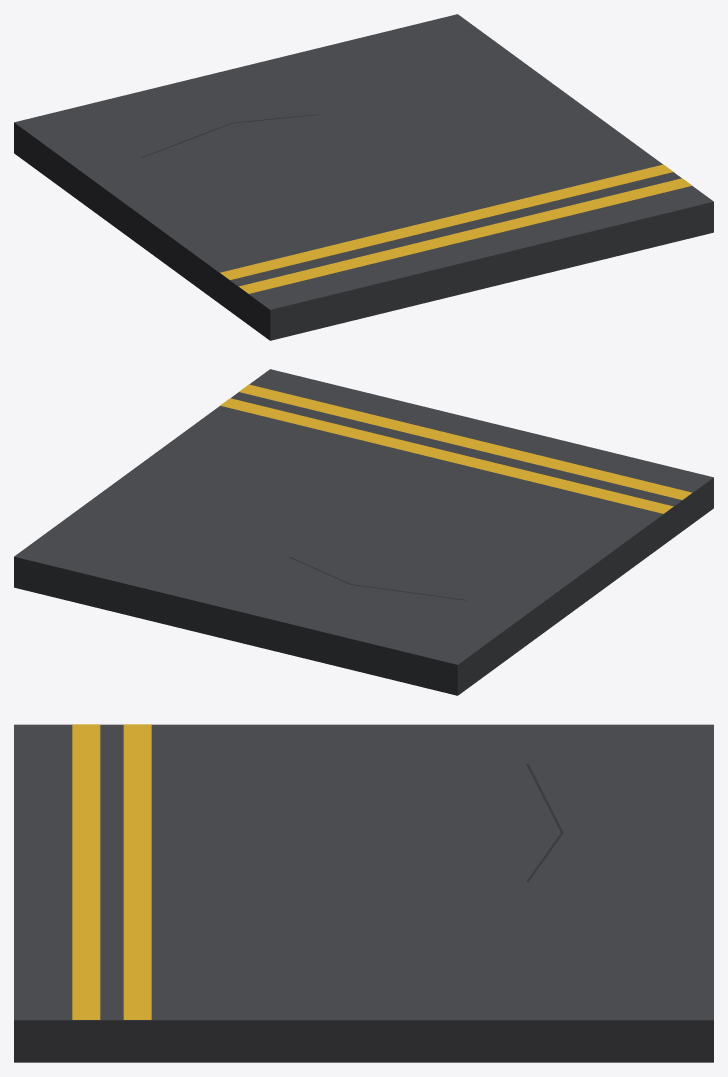
File: SC_Gnd_Road_Edge_Yellow_Double_3x3.gltf
3 renders of one model, top to bottom at view 1: azimuth 30°, elevation 25°; view 2: azimuth 150°, elevation 25°; view 3: azimuth 270°, elevation 25°, orthographic. The views are drawn at different scales.
Parts seen in each view (by area): view 1: SC_Gnd_Road_Edge_Yellow_Double_3x3; view 2: SC_Gnd_Road_Edge_Yellow_Double_3x3; view 3: SC_Gnd_Road_Edge_Yellow_Double_3x3.
Part boxes in pixels (x1,y1,x2,y2): SC_Gnd_Road_Edge_Yellow_Double_3x3: (14, 14, 713, 340); SC_Gnd_Road_Edge_Yellow_Double_3x3: (14, 369, 713, 695); SC_Gnd_Road_Edge_Yellow_Double_3x3: (14, 724, 713, 1062).
Size of the model in its own units: 3 by 0.202 by 3.
Materials: 1 (1 with a texture image).
